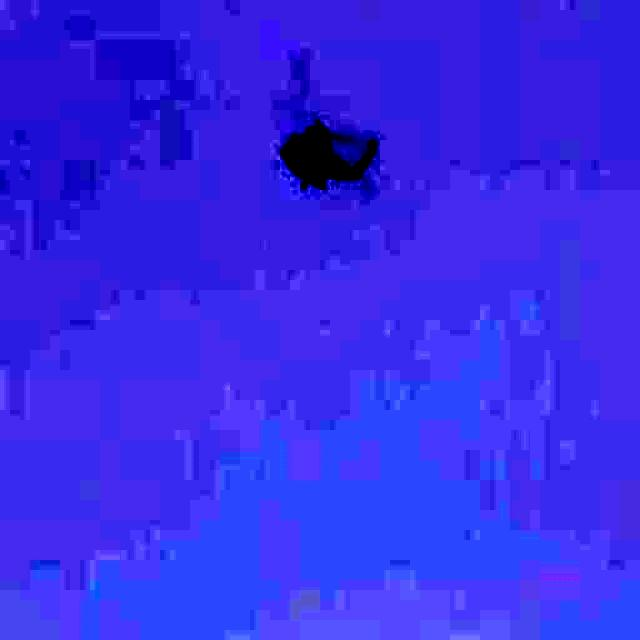drone: (268, 76, 396, 226)
